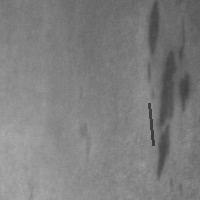inclusion: (148, 3, 194, 184), (141, 1, 161, 84), (74, 115, 96, 161), (147, 101, 155, 147)
